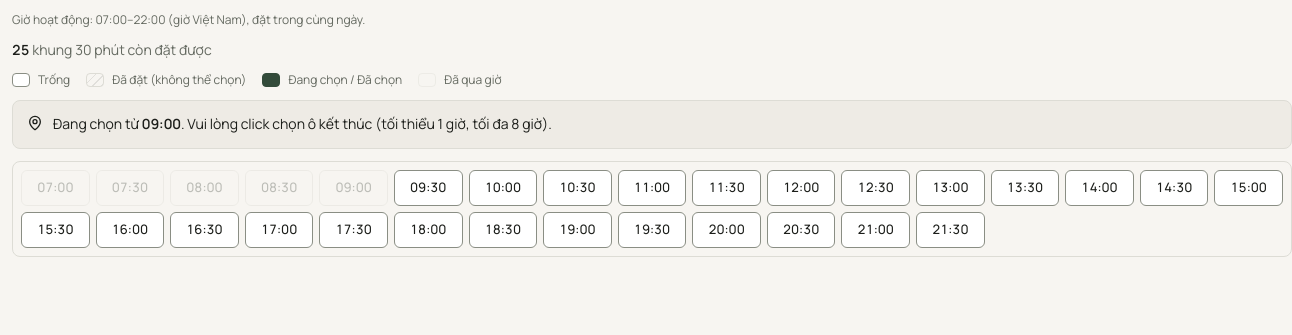
Test: TimeGrid component › F1: Dynamic lead-time timer and real-time clock checks › clears selection and rejects if selectingStartTime expires before clicking end slot
Click the button with test id "time-slot-09:30" at (428, 188), box [394,170,462,206]
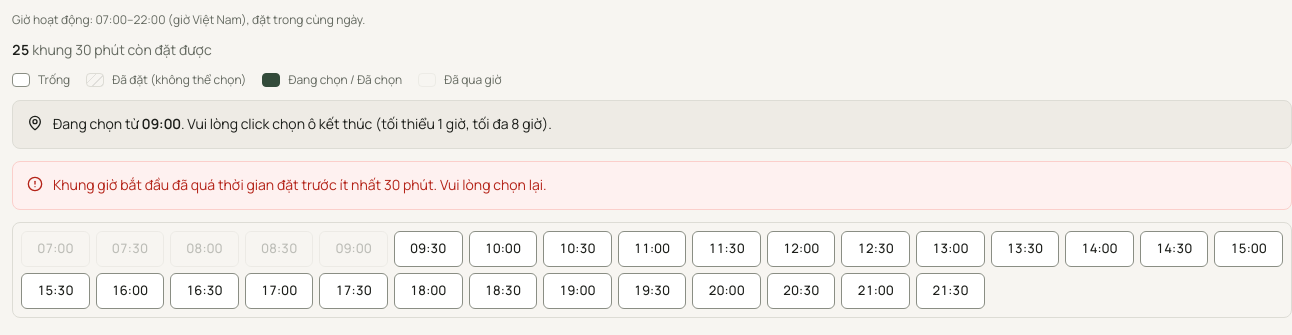
Check: the message with test id "time-grid-error" reads "Khung giờ bắt đầu đã quá thời gian đặt trước ít nhất 30 phút. Vui lòng chọn lại.", box [53,175,547,194]
